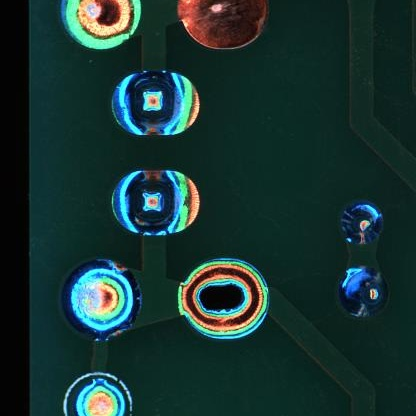spot: (58, 258, 144, 338), (110, 166, 201, 238), (110, 69, 203, 139), (336, 266, 389, 320), (340, 201, 384, 245), (73, 377, 120, 416)
